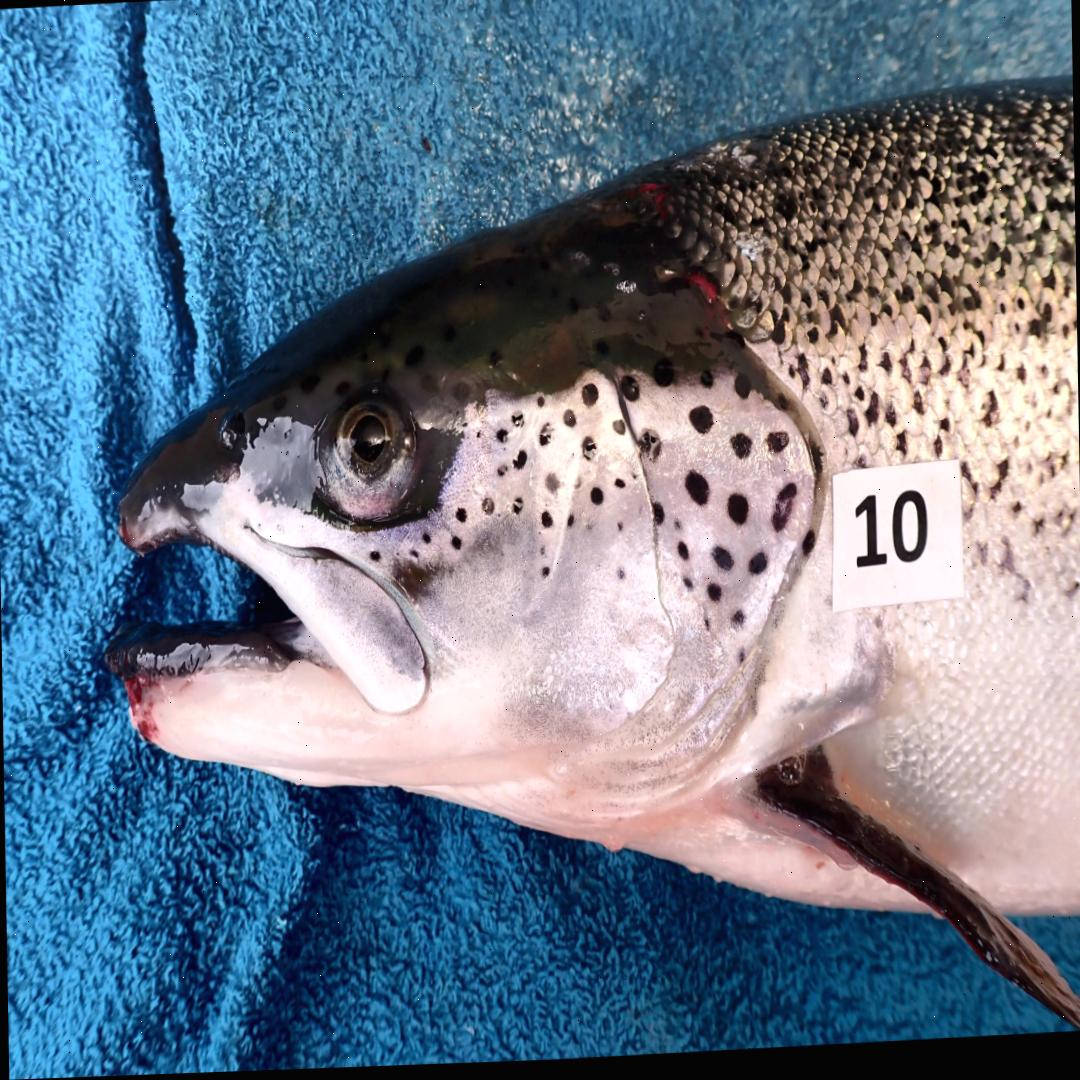spot: (771, 487, 797, 537), (684, 475, 711, 512), (639, 434, 662, 465), (690, 411, 714, 440), (728, 499, 750, 530), (766, 436, 790, 460), (731, 438, 753, 464), (712, 551, 733, 577), (620, 380, 640, 406), (748, 558, 768, 581), (735, 381, 752, 404), (582, 388, 599, 411), (811, 450, 822, 484), (730, 613, 745, 637), (545, 476, 560, 499), (653, 505, 666, 531), (803, 536, 815, 561), (583, 442, 596, 465), (539, 427, 552, 450), (514, 454, 527, 474), (700, 374, 713, 394), (612, 424, 626, 441), (563, 414, 576, 432), (735, 653, 748, 671), (590, 491, 603, 508), (482, 502, 495, 519), (708, 589, 721, 606), (455, 511, 468, 526), (682, 581, 695, 596), (497, 466, 510, 481), (677, 547, 688, 564), (511, 417, 524, 431), (513, 500, 523, 518), (367, 553, 382, 565), (496, 432, 507, 447), (541, 516, 552, 531), (408, 551, 419, 565), (702, 621, 711, 638), (451, 540, 462, 552), (567, 518, 575, 532), (617, 573, 626, 585), (674, 524, 683, 536), (423, 536, 431, 548), (542, 571, 550, 582), (537, 401, 545, 410), (616, 484, 624, 493), (616, 527, 623, 536), (540, 550, 546, 560), (630, 478, 637, 486), (476, 433, 481, 442)
